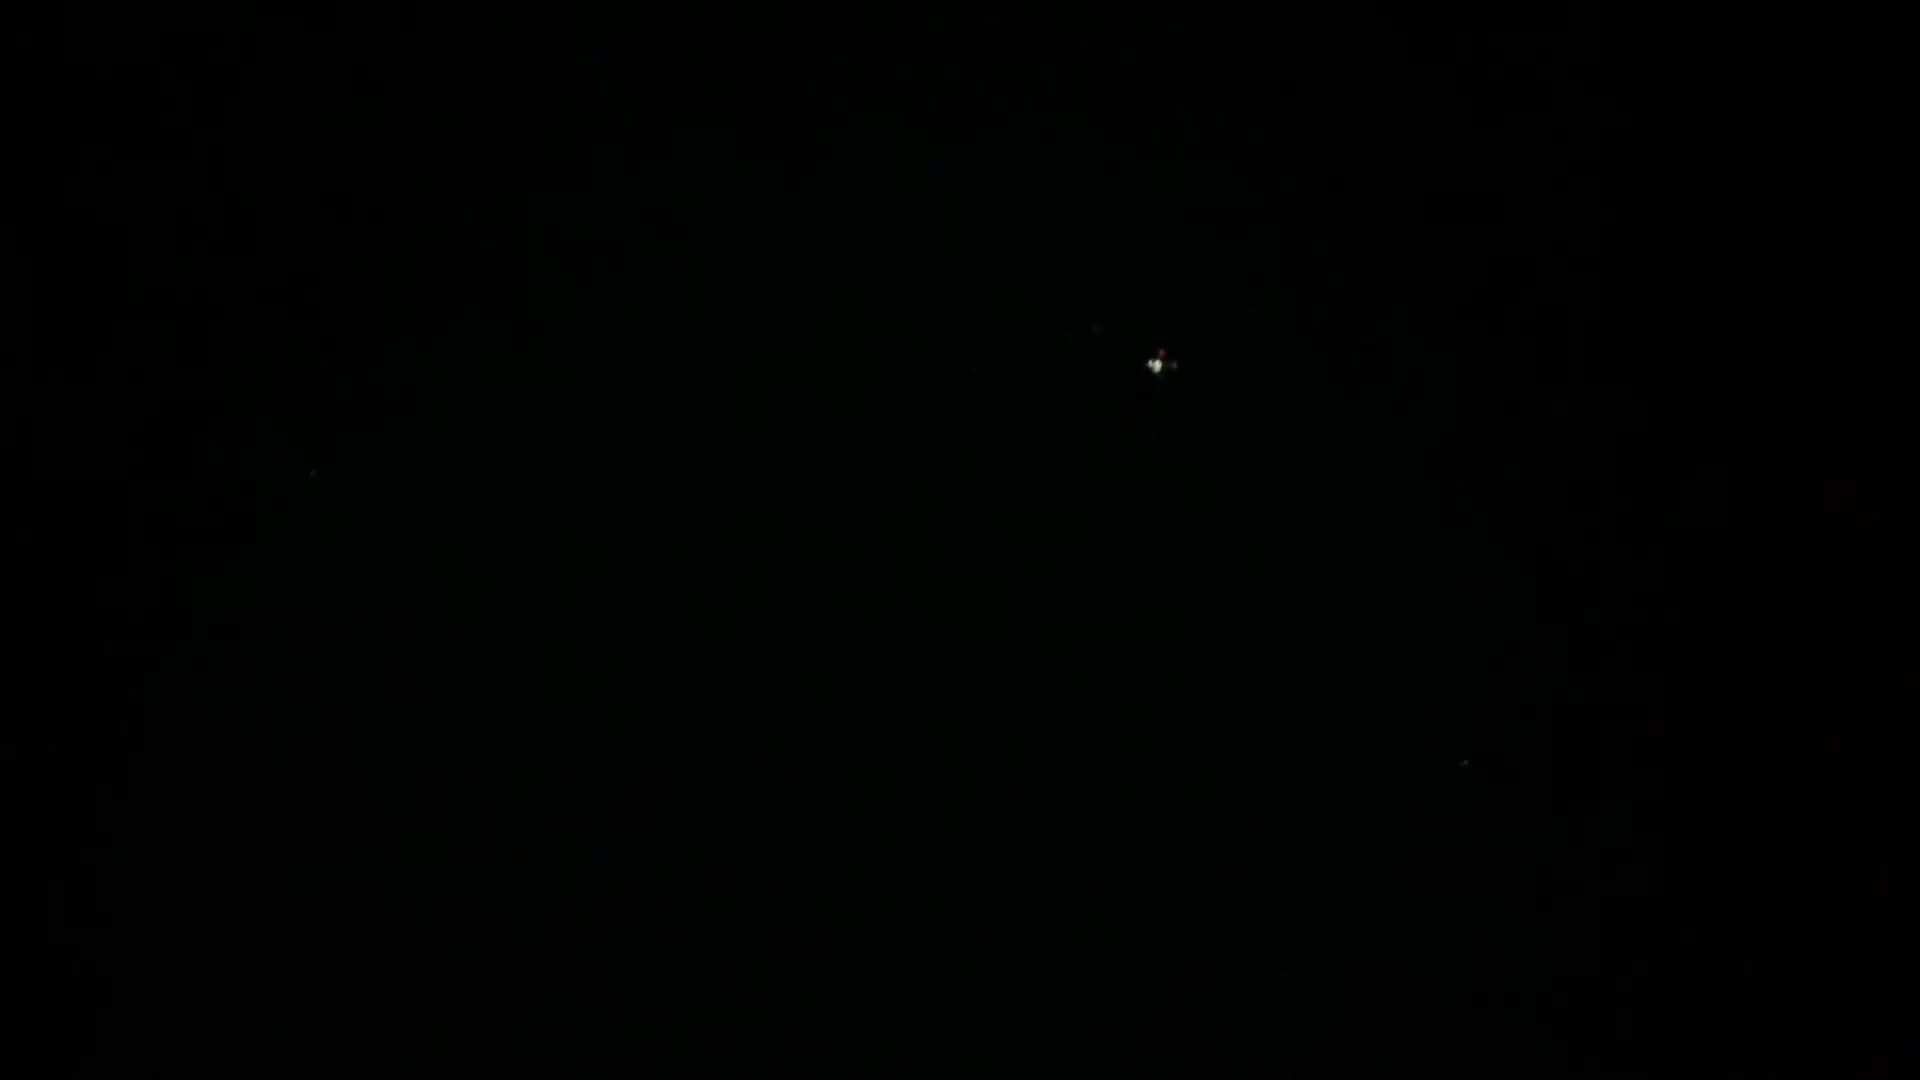Plane: (1142, 332, 1192, 394)
